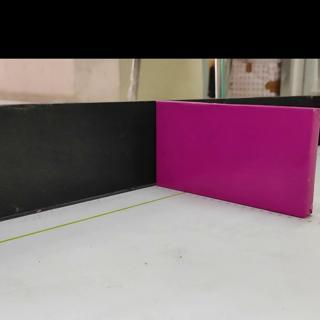xparking: (159, 111, 320, 214)
